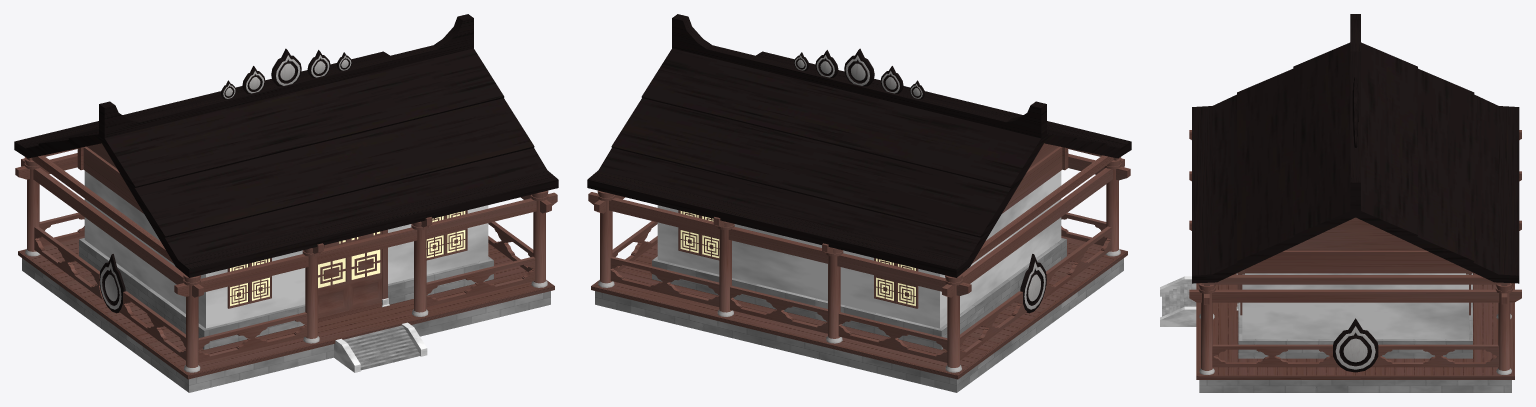
The model's file is house-ig-shero.glb.
3 renders of one model, left to right at view 1: azimuth 30°, elevation 25°; view 2: azimuth 150°, elevation 25°; view 3: azimuth 270°, elevation 25°, orthographic. The views are drawn at different scales.
Visible parts, largest first — view 1: Cube.022_Wood_Black_0, Cube.022_Wood_Brown_0, Cube.022_Brick_0, Cube.022_Wood_Brown_Tiles_0, Cube.022_Rock_0, Cube.022_Window_0, Cube.022_Wood_White_0; view 2: Cube.022_Wood_Black_0, Cube.022_Wood_Brown_0, Cube.022_Brick_0, Cube.022_Rock_0, Cube.022_Wood_Brown_Tiles_0, Cube.022_Wood_White_0, Cube.022_Window_0; view 3: Cube.022_Wood_Black_0, Cube.022_Wood_Brown_0, Cube.022_Rock_0, Cube.022_Wood_Brown_Tiles_0, Cube.022_Brick_0, Cube.022_Wood_White_0.
Boxes of the visible parts, x1=… form: Cube.022_Wood_Black_0: x1=14, y1=14, x2=558, y2=313; Cube.022_Wood_Brown_0: x1=15, y1=143, x2=557, y2=367; Cube.022_Brick_0: x1=22, y1=238, x2=550, y2=392; Cube.022_Wood_Brown_Tiles_0: x1=18, y1=236, x2=554, y2=379; Cube.022_Rock_0: x1=84, y1=171, x2=488, y2=372; Cube.022_Window_0: x1=230, y1=211, x2=465, y2=305; Cube.022_Wood_White_0: x1=25, y1=55, x2=547, y2=372; Cube.022_Wood_Black_0: x1=587, y1=14, x2=1131, y2=313; Cube.022_Wood_Brown_0: x1=588, y1=143, x2=1130, y2=367; Cube.022_Brick_0: x1=595, y1=238, x2=1123, y2=392; Cube.022_Rock_0: x1=657, y1=171, x2=1061, y2=328; Cube.022_Wood_Brown_Tiles_0: x1=591, y1=236, x2=1127, y2=379; Cube.022_Wood_White_0: x1=598, y1=55, x2=1120, y2=372; Cube.022_Window_0: x1=680, y1=211, x2=915, y2=305; Cube.022_Wood_Black_0: x1=1192, y1=14, x2=1519, y2=372; Cube.022_Wood_Brown_0: x1=1189, y1=130, x2=1521, y2=370; Cube.022_Rock_0: x1=1160, y1=273, x2=1468, y2=339; Cube.022_Wood_Brown_Tiles_0: x1=1196, y1=273, x2=1514, y2=379; Cube.022_Brick_0: x1=1162, y1=273, x2=1511, y2=392; Cube.022_Wood_White_0: x1=1199, y1=314, x2=1511, y2=374.
Bounding box in the file's own units: 10.5 × 6.3 × 9.25.
7 materials, 7 textured.
